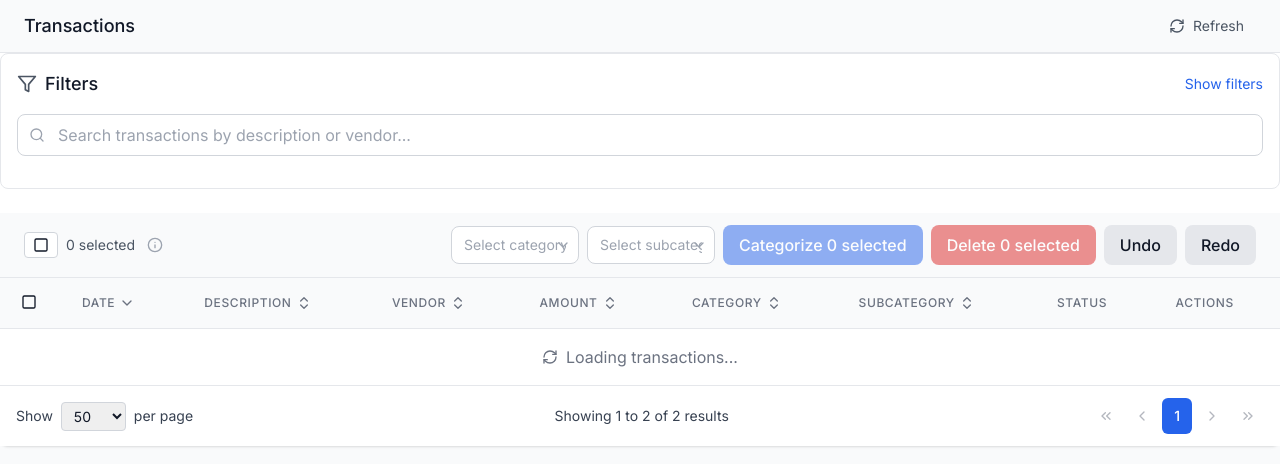
Test: TransactionTable › shows loading spinner during refresh
Click the button "Refresh".
click(1206, 26)  # box [1157,12,1256,40]
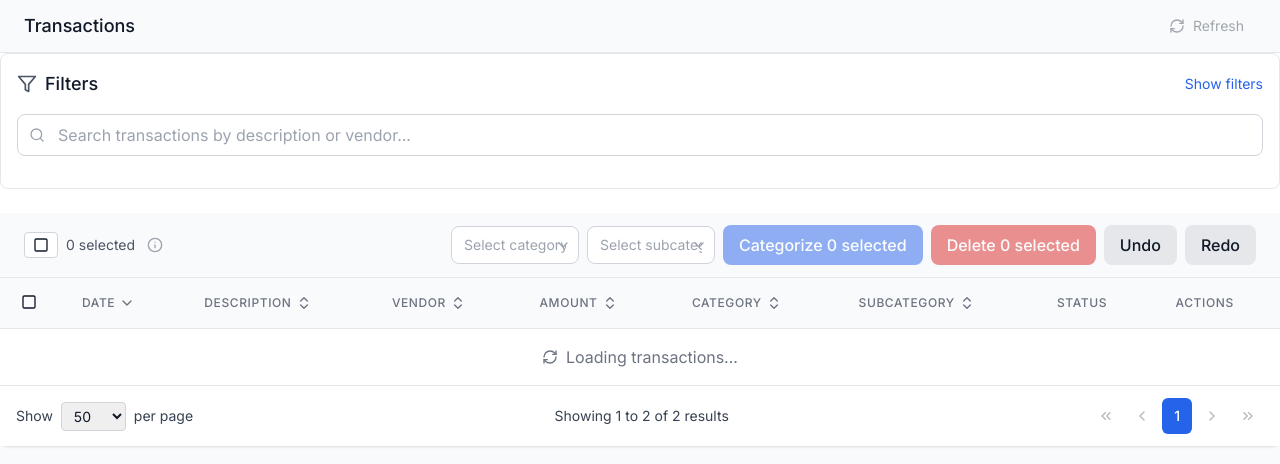
Expected: the button "Refresh" is disabled, [1157,12,1256,40]
